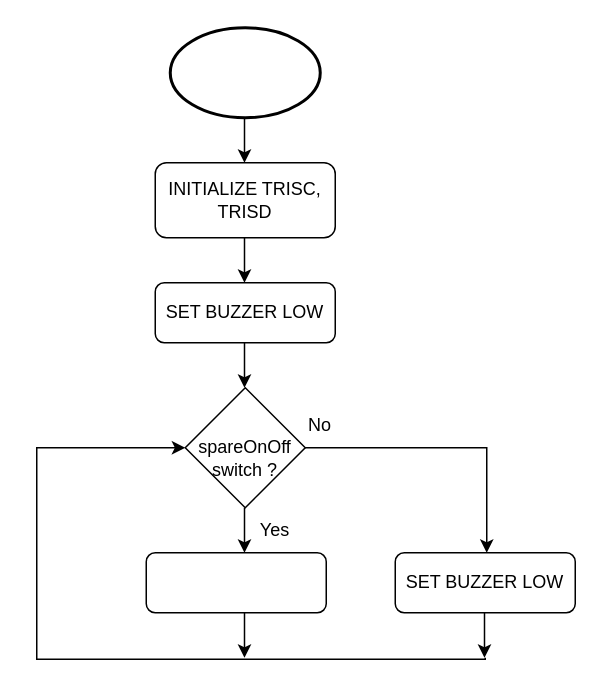
The diagram is 602 pixels wide and 698 high, and some of its shapes have lost their labels. The shapes that lost their labels are listed below. From the top down, each one's box as (x1, y1, x2, y2) in pixels, then its label:
(168, 26, 321, 118): START
(145, 551, 326, 613): SET BUZZER HIGH
